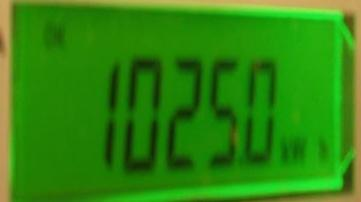.: (275, 135, 331, 161)
1: (122, 56, 162, 170), (245, 58, 281, 169)
2: (100, 57, 121, 173)
3: (165, 57, 211, 170)
6: (207, 60, 240, 163)
